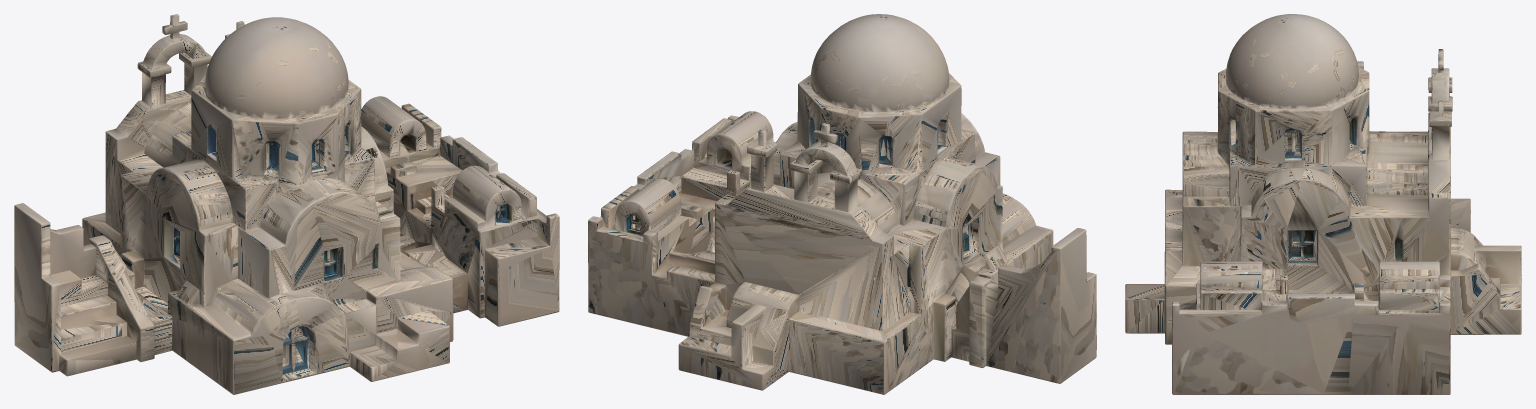
3 renders of one model, left to right at view 1: azimuth 30°, elevation 25°; view 2: azimuth 150°, elevation 25°; view 3: azimuth 270°, elevation 25°, orthographic. The views are drawn at different scales.
Parts seen in each view (by area): view 1: Untitled_4; view 2: Untitled_4; view 3: Untitled_4.
Boxes of the visible parts, x1,y1,x2,y2 form: Untitled_4: (14, 14, 559, 394); Untitled_4: (588, 14, 1096, 394); Untitled_4: (1125, 14, 1521, 394).
Bounding box in the file's own units: 2 × 1.27 × 1.65.
Materials: 1 (1 with a texture image).
